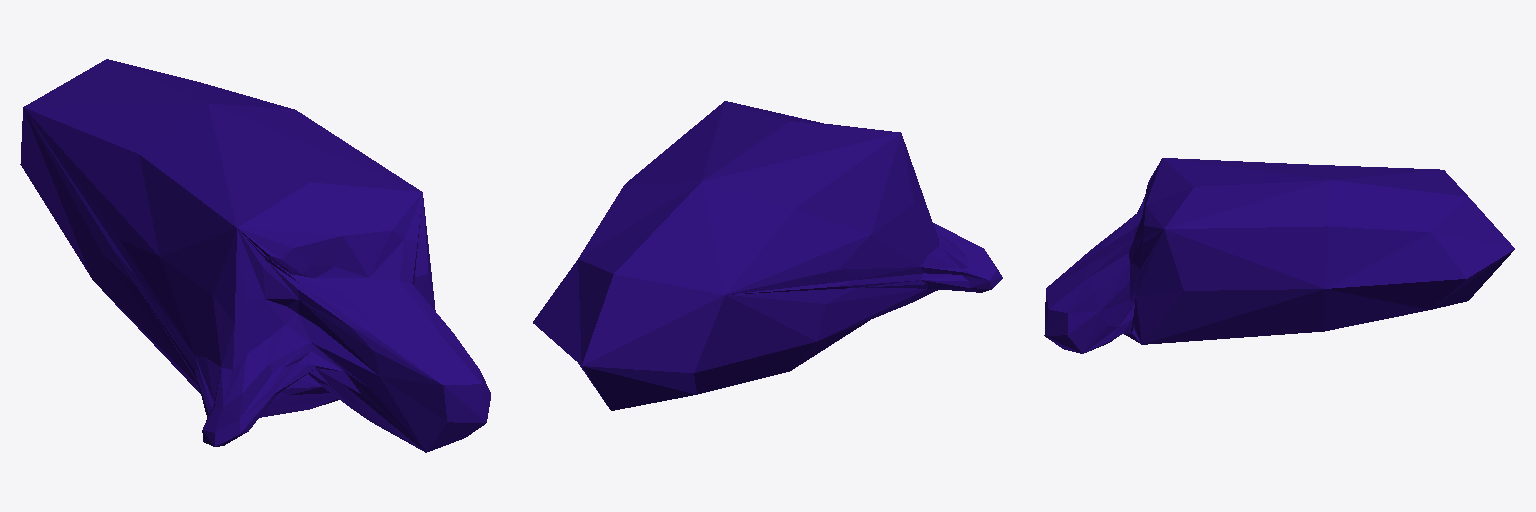
The robot description file, URDF, robot "blob561":

<robot name="blob561">
  <link name="random_obj_561">
    <contact>
      <lateral_friction value="1.0"/>
      <rolling_friction value="0.0"/>
      <inertia_scaling value="3.0"/>
      <contact_cfm value="0.0"/>
      <contact_erp value="1.0"/>
    </contact>
    <inertial>
      <origin rpy="0 0 0" xyz="0 0 0"/>
      <mass value="0.1391"/>
      <inertia ixx="1" ixy="0" ixz="0" iyy="1" iyz="0" izz="0"/>
    </inertial>
    <visual>
      <origin rpy="0 0 0" xyz="0 0 0"/>
      <geometry>
        <mesh filename="561.obj" scale="0.0071 0.0071 0.0071"/>
      </geometry>
      <material name="blockmat">
        <color rgba="0.21 0.09 0.52 1"/>
      </material>
    </visual>
    <collision>
      <origin rpy="0 0 0" xyz="0 0 0"/>
      <geometry>
        <mesh filename="561_coll.obj" scale="0.0071 0.0071 0.0071"/>
      </geometry>
    </collision>
  </link>
</robot>

--- Render facts (derived) ---
Views: 3 orthographic renders of the robot side by side, from view 1: azimuth 30°, elevation 25°; view 2: azimuth 150°, elevation 25°; view 3: azimuth 270°, elevation 25°.
Model blob561 with 1 links and 0 joints (none), rooted at random_obj_561, posed every joint at zero.
Visible links, largest first — view 1: random_obj_561; view 2: random_obj_561; view 3: random_obj_561.
Link boxes in pixels (box(x1,y1,x2,y2)): random_obj_561: box(20, 59, 490, 452); random_obj_561: box(533, 101, 1002, 410); random_obj_561: box(1044, 158, 1514, 353).
Bounding box of the posed robot: 0.0505 × 0.1077 × 0.0373 m (x, y, z).
Meshes: 1 distinct files referenced, 1 mesh visuals loaded (1 OBJ).
